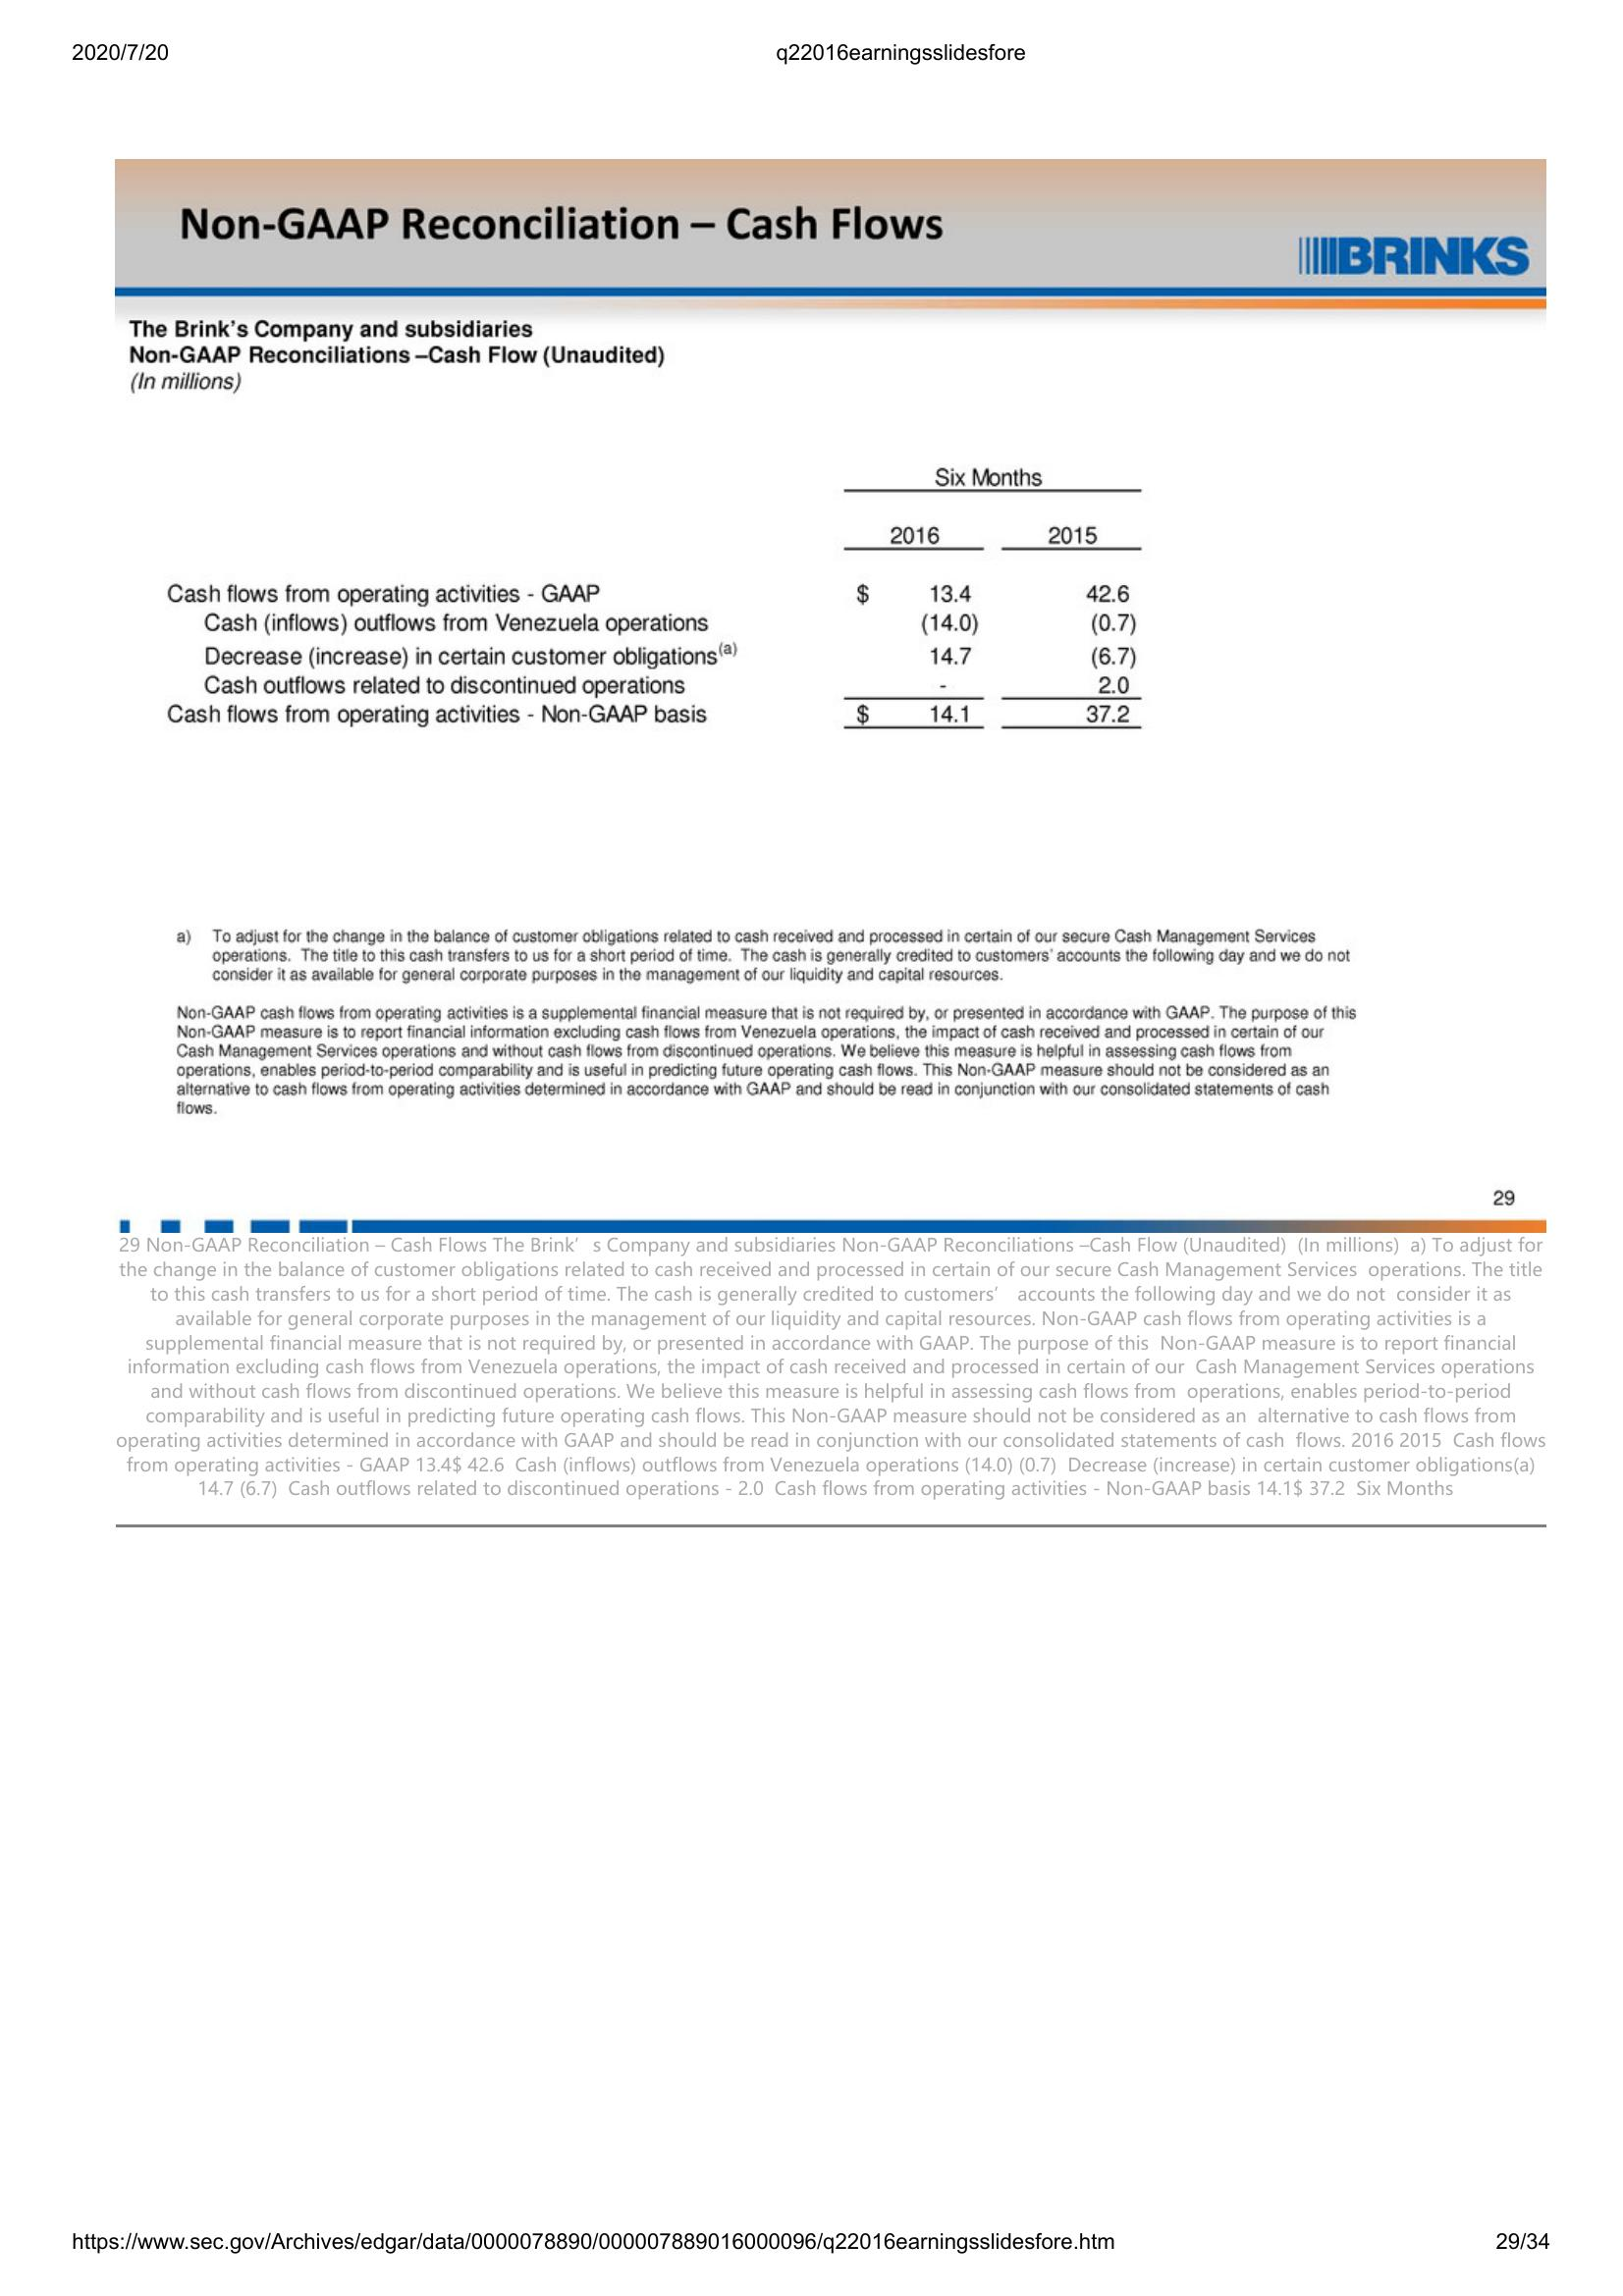table: (169, 467, 1152, 741)
